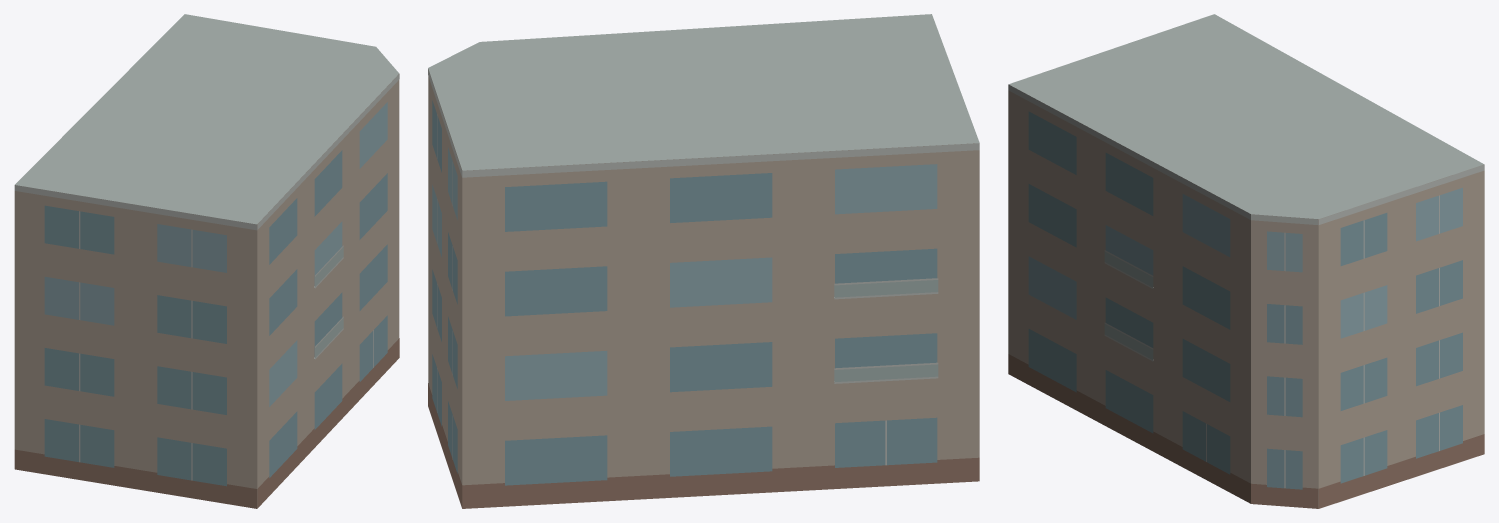
The model's file is survey-upis-33045756.glb.
3 views of the same model, side by side, from view 1: azimuth 30°, elevation 25°; view 2: azimuth 150°, elevation 25°; view 3: azimuth 270°, elevation 25° (orthographic). The views are drawn at different scales.
Visible parts, largest first — view 1: survey-upis-33045756.tmp; view 2: survey-upis-33045756.tmp; view 3: survey-upis-33045756.tmp.
Part boxes in pixels (x1,y1,x2,y2): survey-upis-33045756.tmp: (14, 14, 399, 508); survey-upis-33045756.tmp: (428, 14, 979, 508); survey-upis-33045756.tmp: (1008, 14, 1484, 508).
Bounding box in the file's own units: 17.78 × 11.7 × 17.44.
